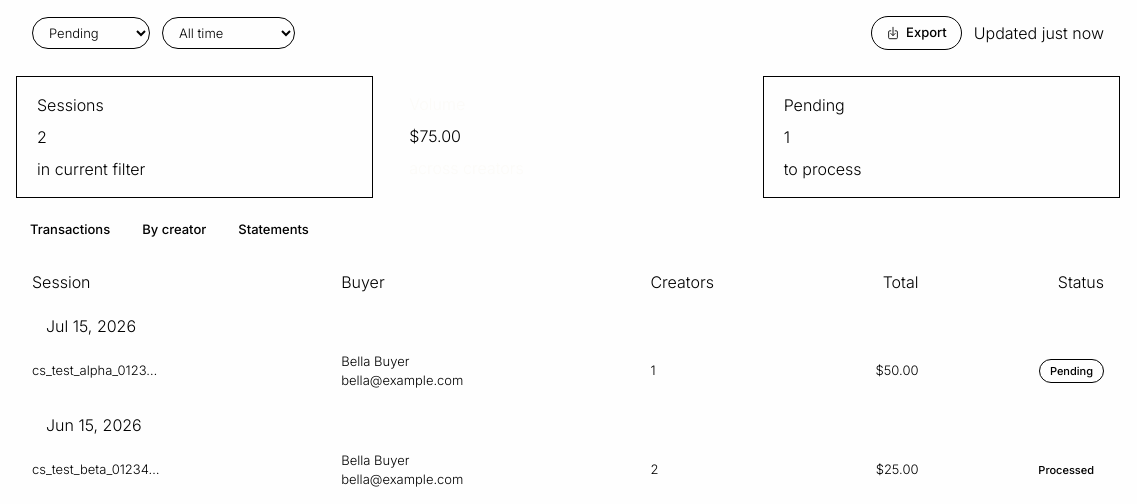
it: CreatorPayments — accounting views › aggregates the loaded sessions per creator in the By-creator sub-view
The image size is (1137, 504).
Click the tab "By creator": (174, 230) 128,214 -> 220,246
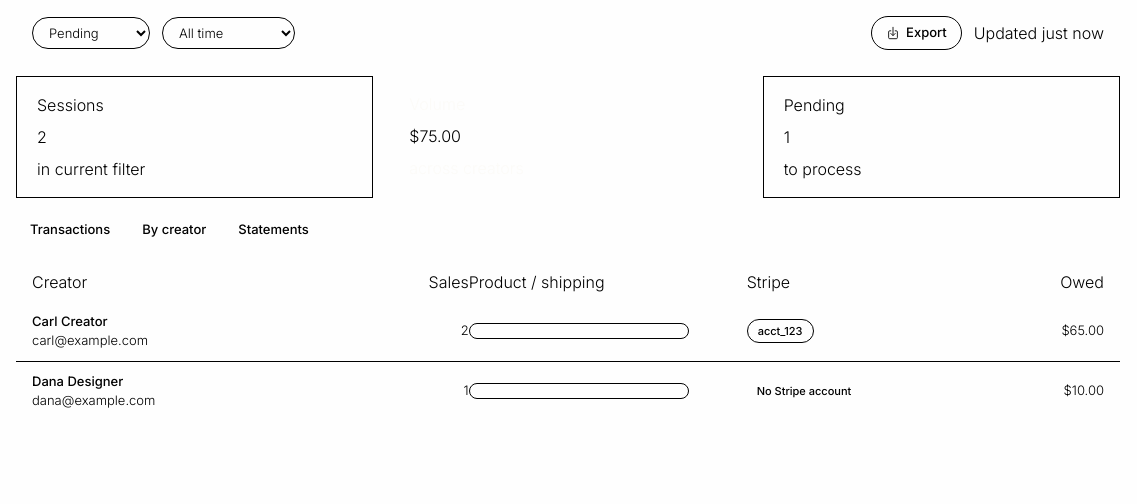
Check: the text "Carl Creator" is shown, box 32,312 -> 108,328
Check: the text "$65.00" is shown, box 1061,322 -> 1104,338
Check: the text "acct_123" is shown, box 758,326 -> 802,336
